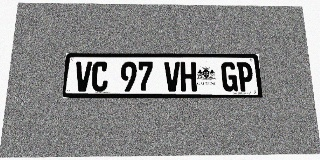7: (137, 62, 153, 91)
9: (120, 62, 137, 92)
C: (91, 61, 108, 92)
G: (221, 62, 238, 91)
H: (180, 62, 197, 91)
P: (236, 62, 254, 91)
V: (74, 61, 92, 92), (164, 62, 180, 91)
